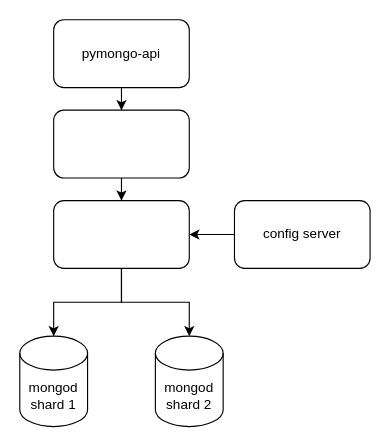
Image size: 390x446. Some labels were removed from this diagram. The centre of each missing label's shape, as x and y in pixels:
"driver" belongs at [121,143].
"mongos" belongs at [121,233].
